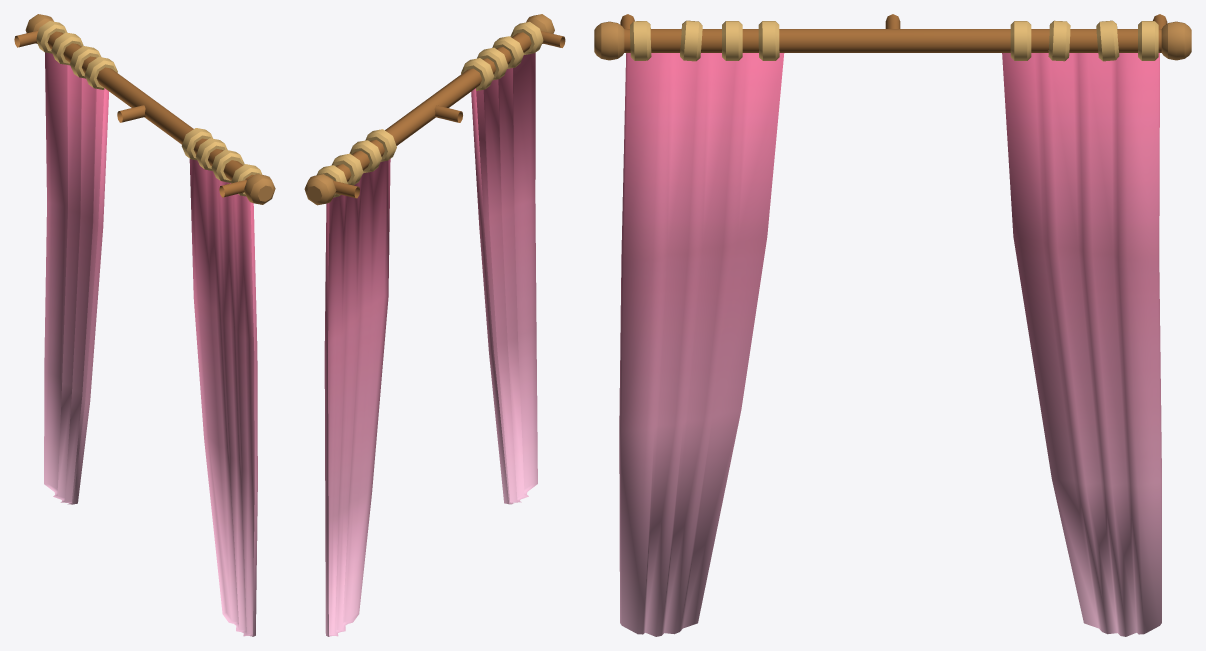
The model's file is Curtains_Long_1_C_K.glb.
The picture shows the model from 3 angles, left to right: view 1: azimuth 30°, elevation 25°; view 2: azimuth 150°, elevation 25°; view 3: azimuth 270°, elevation 25°; orthographic projection. The views are drawn at different scales.
Visible parts, largest first — view 1: Curtains_Long_1_C_K; view 2: Curtains_Long_1_C_K; view 3: Curtains_Long_1_C_K.
Boxes of the visible parts, box(x1,y1,x2,y2) form: Curtains_Long_1_C_K: box(14, 14, 275, 636); Curtains_Long_1_C_K: box(304, 14, 565, 636); Curtains_Long_1_C_K: box(594, 14, 1191, 636).
Bounding box in the file's own units: 0.2268 × 2.28 × 2.02.
1 material, 1 textured.
